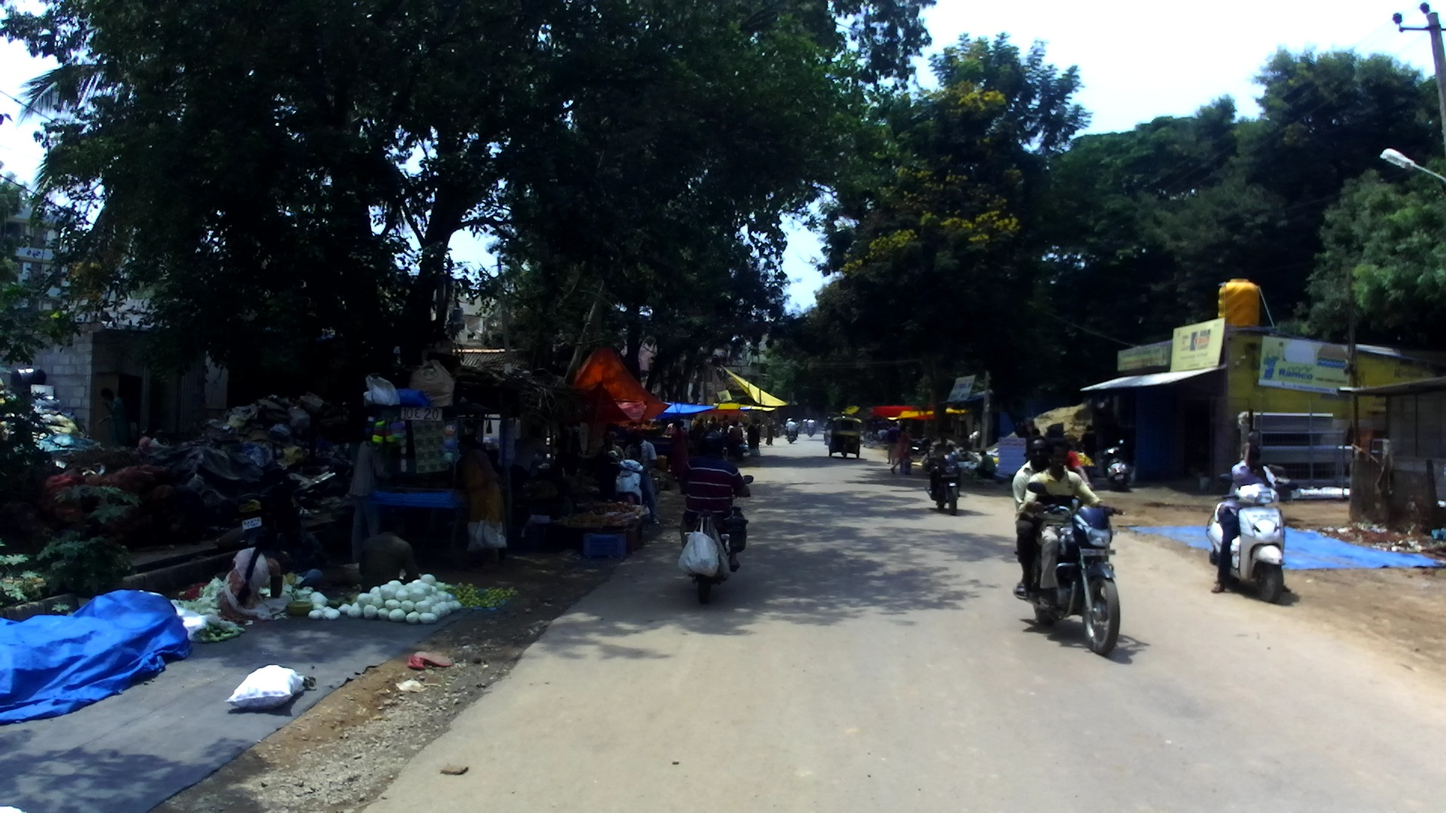autorickshaw: (828, 417, 862, 458)
motorcycle: (1014, 483, 1126, 655), (1206, 473, 1299, 603), (679, 474, 754, 605), (241, 461, 307, 552), (926, 450, 970, 514), (607, 451, 649, 517), (1100, 439, 1133, 490), (729, 438, 747, 458), (785, 431, 799, 445), (824, 427, 834, 446), (772, 424, 781, 438), (807, 426, 816, 437)
person: (458, 434, 503, 570), (221, 531, 284, 621), (349, 436, 389, 568), (358, 517, 419, 595), (509, 425, 551, 529), (273, 515, 328, 592), (593, 429, 624, 505), (667, 418, 692, 495), (98, 386, 127, 448), (890, 425, 910, 474), (664, 419, 681, 470), (1081, 425, 1098, 471), (974, 449, 997, 479), (886, 421, 900, 464), (150, 428, 169, 454), (747, 423, 761, 458), (1029, 428, 1046, 451), (694, 418, 706, 443), (765, 418, 775, 446), (709, 417, 720, 442), (139, 430, 150, 454), (719, 415, 728, 434), (679, 420, 688, 434), (877, 429, 888, 440), (801, 419, 807, 433)
rider: (1021, 440, 1125, 608), (1212, 441, 1280, 595), (1012, 435, 1071, 602), (682, 432, 750, 574), (624, 433, 660, 527), (1056, 440, 1094, 495), (931, 431, 962, 496), (729, 420, 745, 443), (785, 418, 798, 440), (824, 417, 834, 445), (807, 418, 818, 436)
vehicle fallback: (377, 483, 479, 565), (864, 433, 875, 448)
